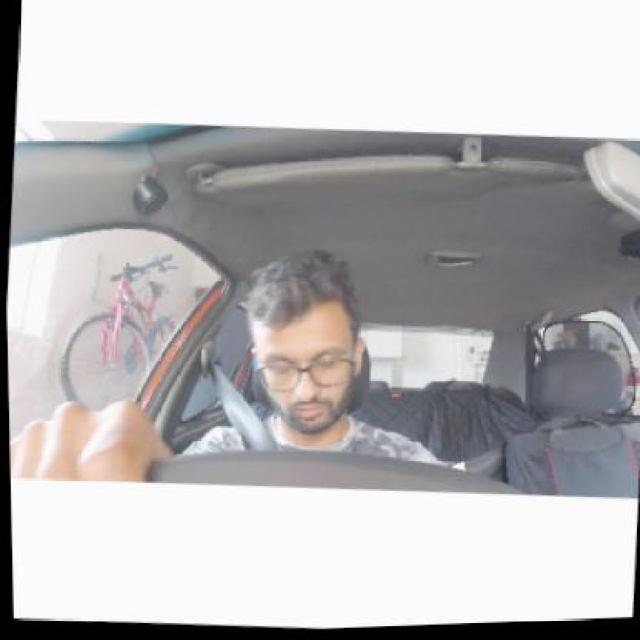drowsy: (230, 249, 386, 436)
